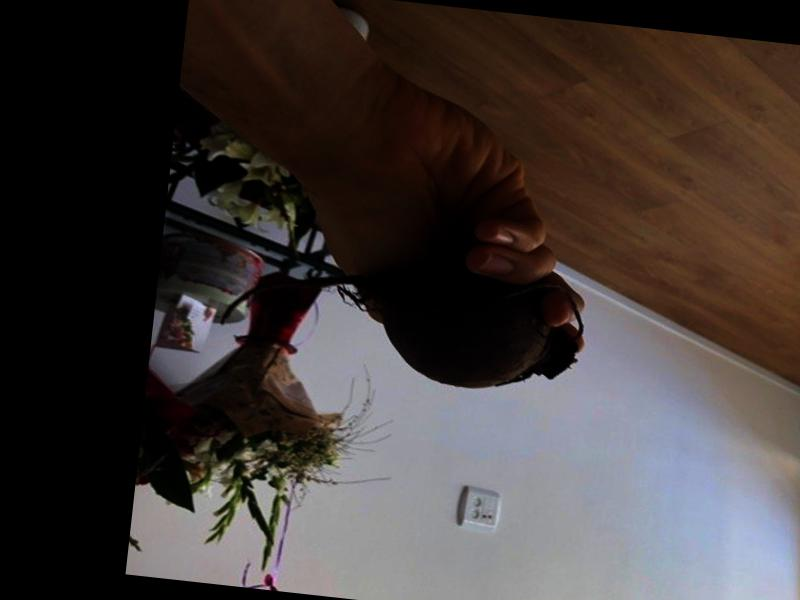Beet: (217, 236, 589, 398)
